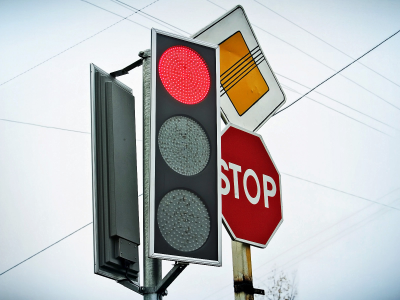stop: (220, 141, 283, 234)
trafficlight_red: (154, 42, 217, 258)
